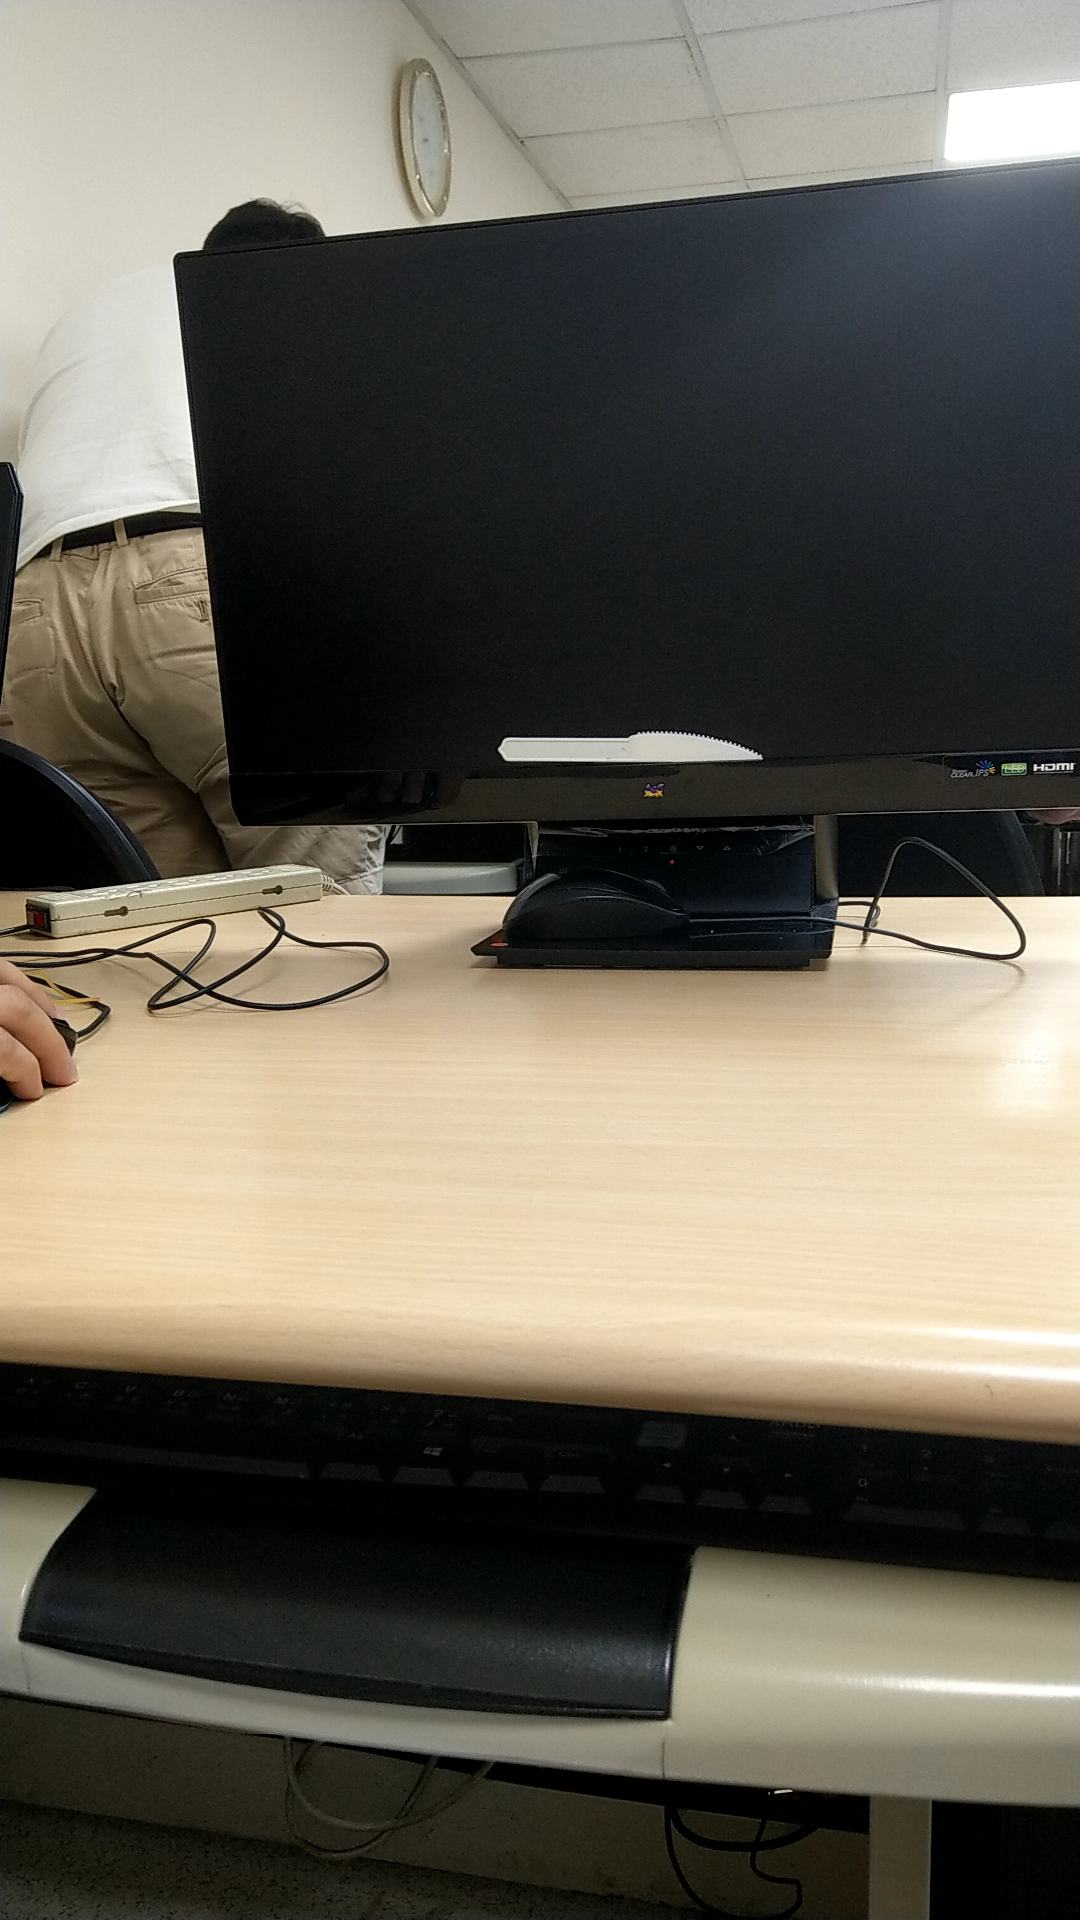knife: (465, 707, 770, 779)
